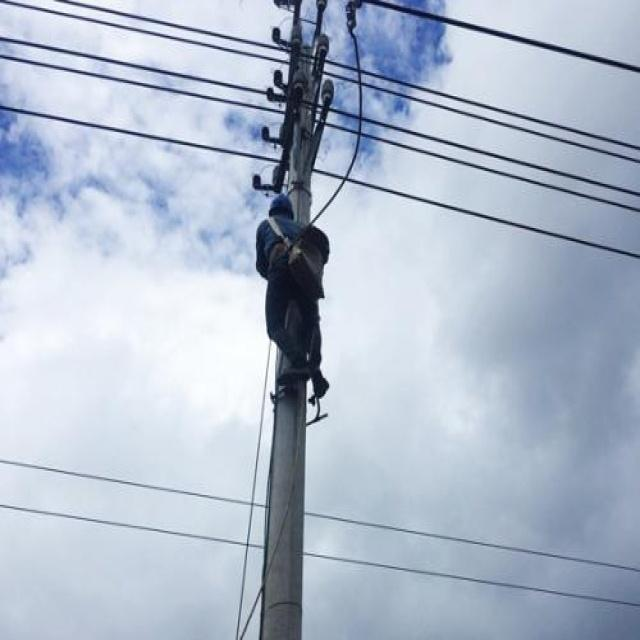helmet: (262, 256, 303, 315)
